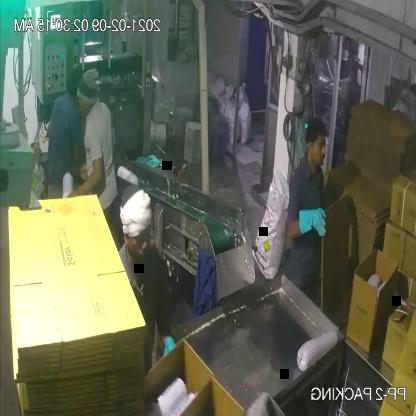glove: (294, 200, 327, 247)
no_glove: (62, 152, 110, 207)
